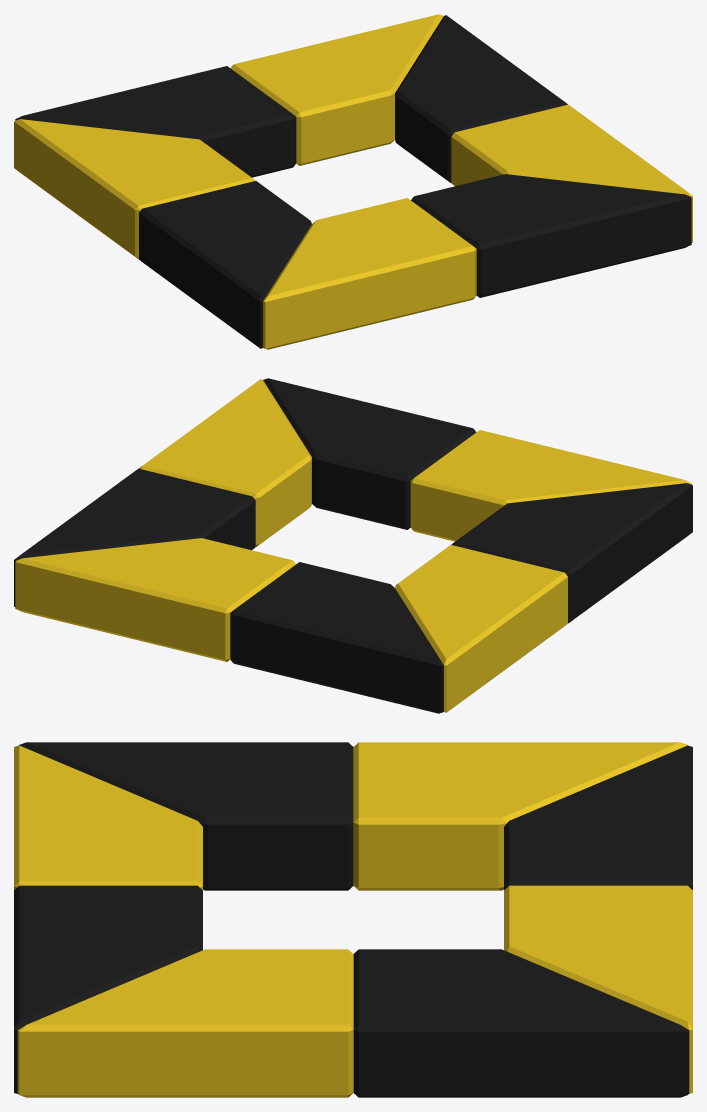
Rendered from Square_1.fbx.
3 views of the same model, one above another, from view 1: azimuth 30°, elevation 25°; view 2: azimuth 150°, elevation 25°; view 3: azimuth 270°, elevation 25° (orthographic). The views are drawn at different scales.
Visible parts, largest first — view 1: Cube.005, Cube.004, Cube.010, Cube.011, Cube.008, Cube.009, Cube.007, Cube.006; view 2: Cube.008, Cube.009, Cube.011, Cube.010, Cube.005, Cube.004, Cube.006, Cube.007; view 3: Cube.006, Cube.007, Cube.010, Cube.011, Cube.005, Cube.008, Cube.004, Cube.009.
Boxes of the visible parts, x1=… form: Cube.005: x1=411, y1=174, x2=691, y2=297; Cube.004: x1=263, y1=198, x2=476, y2=349; Cube.010: x1=14, y1=119, x2=255, y2=259; Cube.011: x1=139, y1=181, x2=311, y2=348; Cube.008: x1=230, y1=14, x2=443, y2=165; Cube.009: x1=15, y1=66, x2=296, y2=177; Cube.007: x1=395, y1=15, x2=567, y2=182; Cube.006: x1=451, y1=104, x2=692, y2=242; Cube.008: x1=15, y1=538, x2=295, y2=661; Cube.009: x1=230, y1=562, x2=443, y2=713; Cube.011: x1=451, y1=483, x2=692, y2=623; Cube.010: x1=395, y1=545, x2=567, y2=712; Cube.005: x1=263, y1=378, x2=476, y2=529; Cube.004: x1=410, y1=430, x2=691, y2=541; Cube.006: x1=139, y1=379, x2=311, y2=546; Cube.007: x1=14, y1=468, x2=255, y2=606; Cube.006: x1=17, y1=949, x2=353, y2=1097; Cube.007: x1=353, y1=949, x2=689, y2=1097; Cube.010: x1=353, y1=742, x2=687, y2=890; Cube.011: x1=19, y1=742, x2=353, y2=890; Cube.005: x1=14, y1=885, x2=202, y2=1093; Cube.008: x1=504, y1=885, x2=692, y2=1093; Cube.004: x1=14, y1=745, x2=202, y2=889; Cube.009: x1=504, y1=745, x2=692, y2=889.
Size of the model in its own units: 1290 by 1290 by 153.
